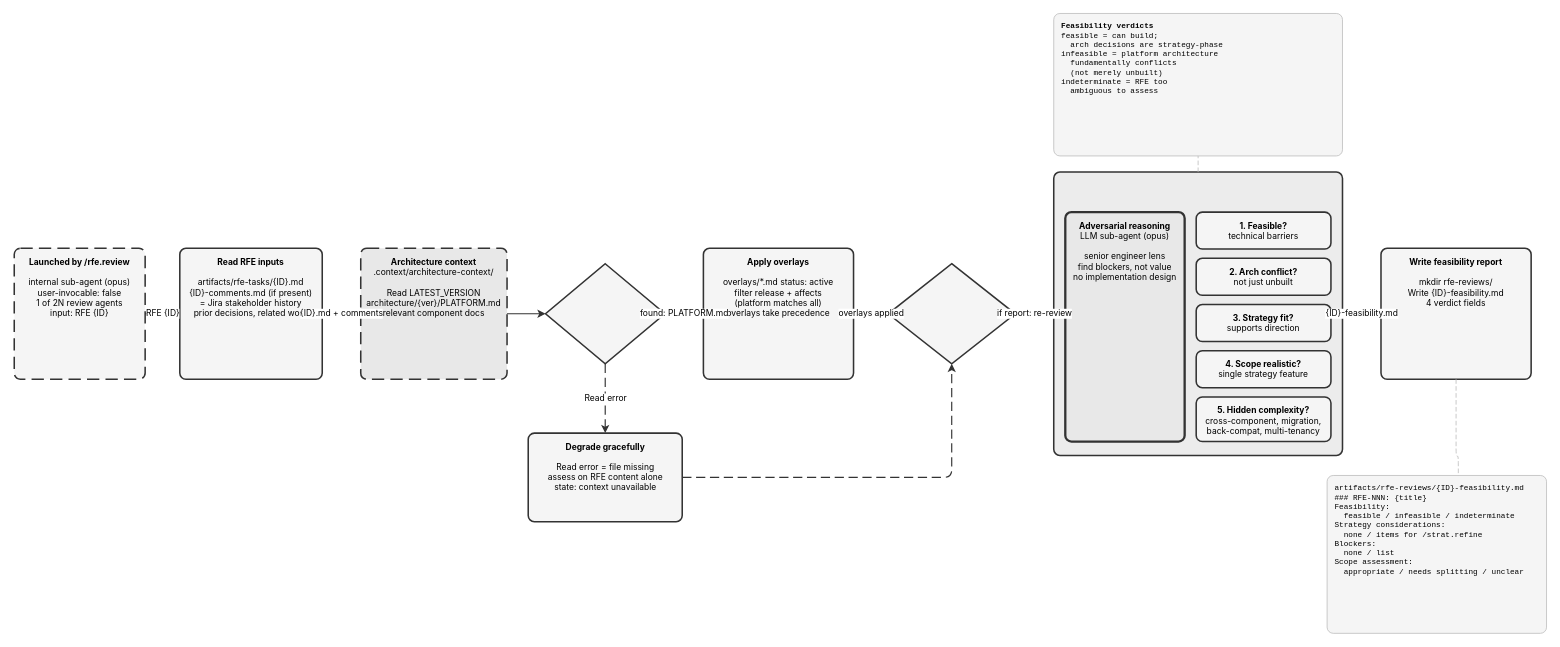
This 1560x647 diagram has some shape labels left out. Each missing label, with the box of its shape:
Assess (adversarial - find blockers): (1053, 171, 1343, 456)
LATEST_VERSION readable?: (544, 263, 665, 364)
Prior review report?: (887, 263, 1016, 364)
